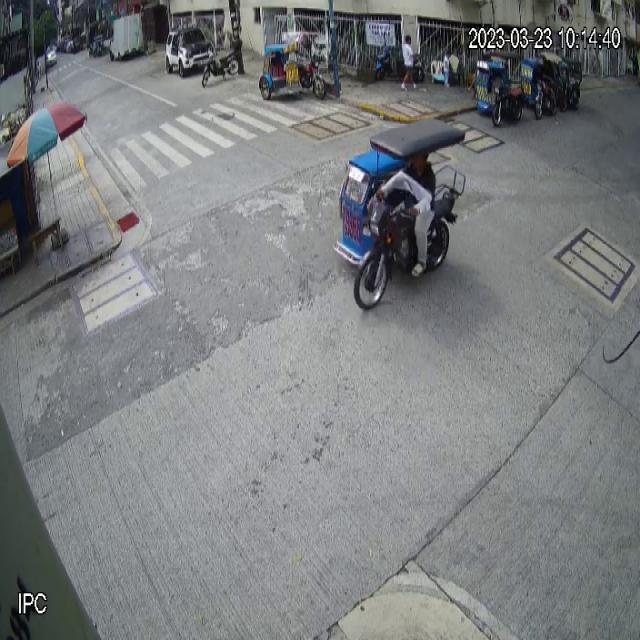Tricycle: (334, 118, 466, 311), (259, 32, 328, 101), (474, 52, 525, 125)
